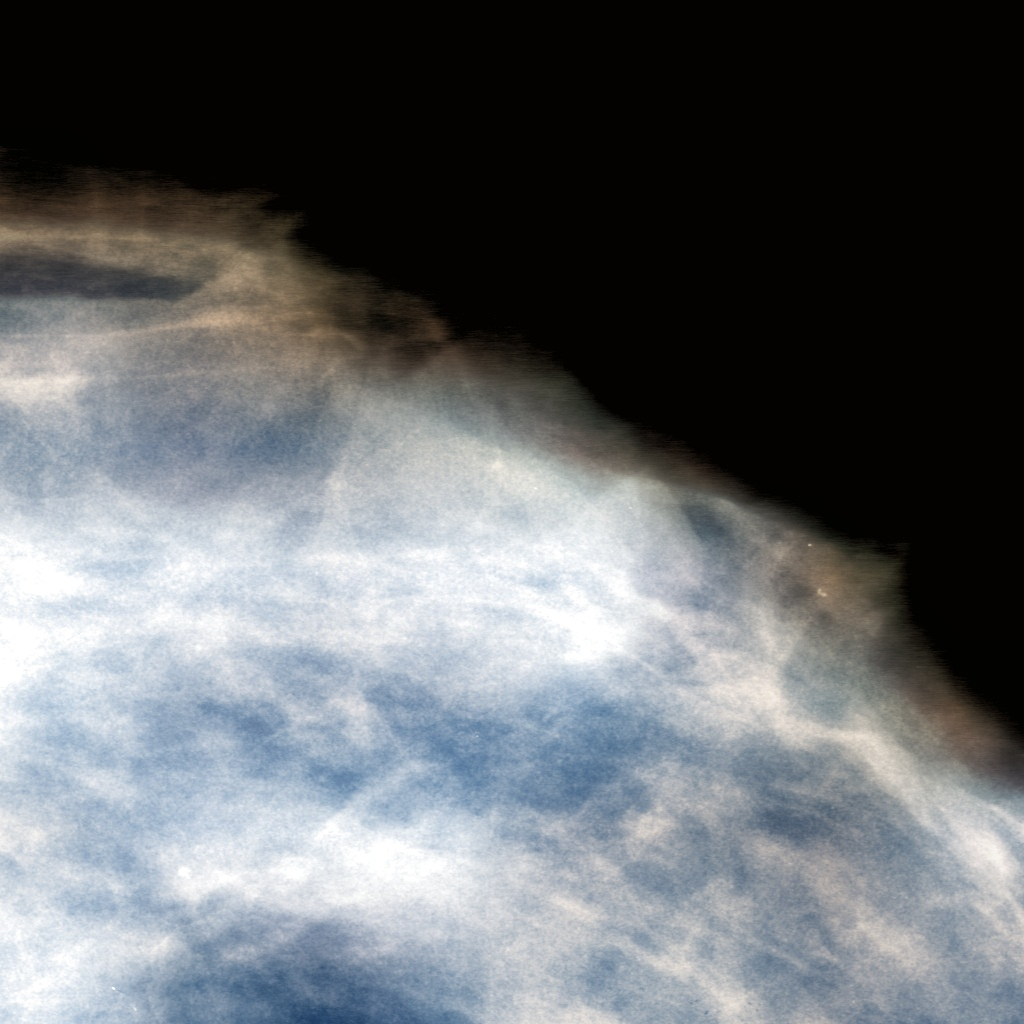tumor: (329, 349, 695, 675)
